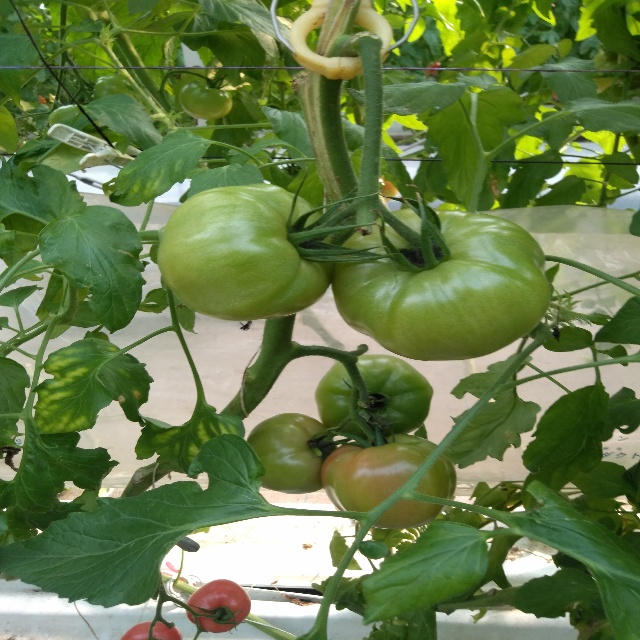b_fully_ripened: (185, 579, 250, 632), (121, 621, 182, 640)
b_green: (332, 205, 550, 361), (157, 184, 338, 322), (314, 354, 434, 441), (246, 413, 337, 494), (179, 80, 233, 120)
b_half_ripened: (320, 433, 457, 529)
